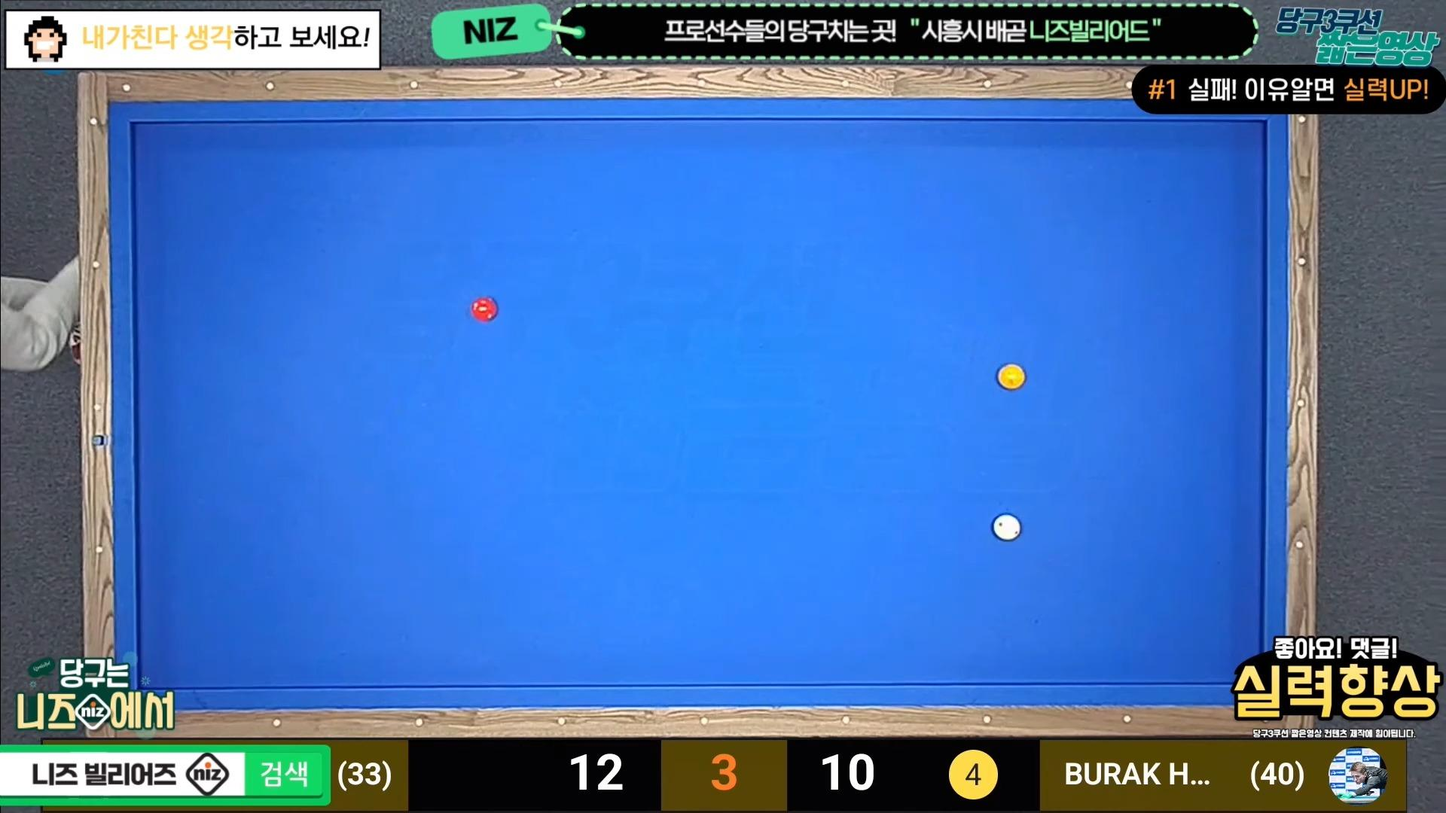-billiard-ball: (996, 363, 1026, 391), (991, 513, 1020, 541), (469, 296, 498, 323)
Red: (469, 298, 502, 324)
White: (992, 516, 1027, 543)
Yellow: (996, 362, 1031, 392)
